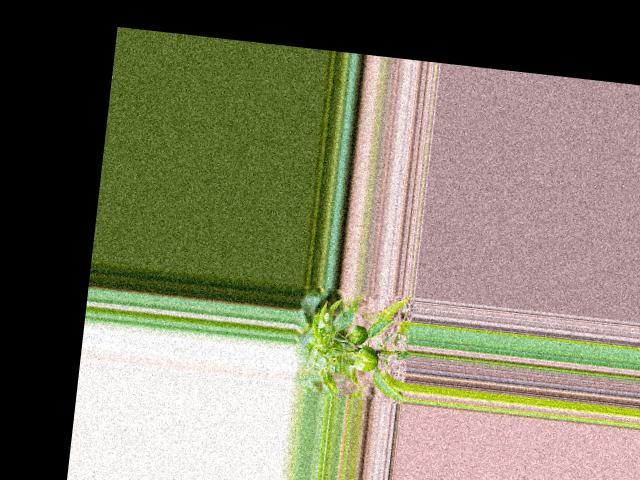bell_pepper: (348, 323, 370, 346)
